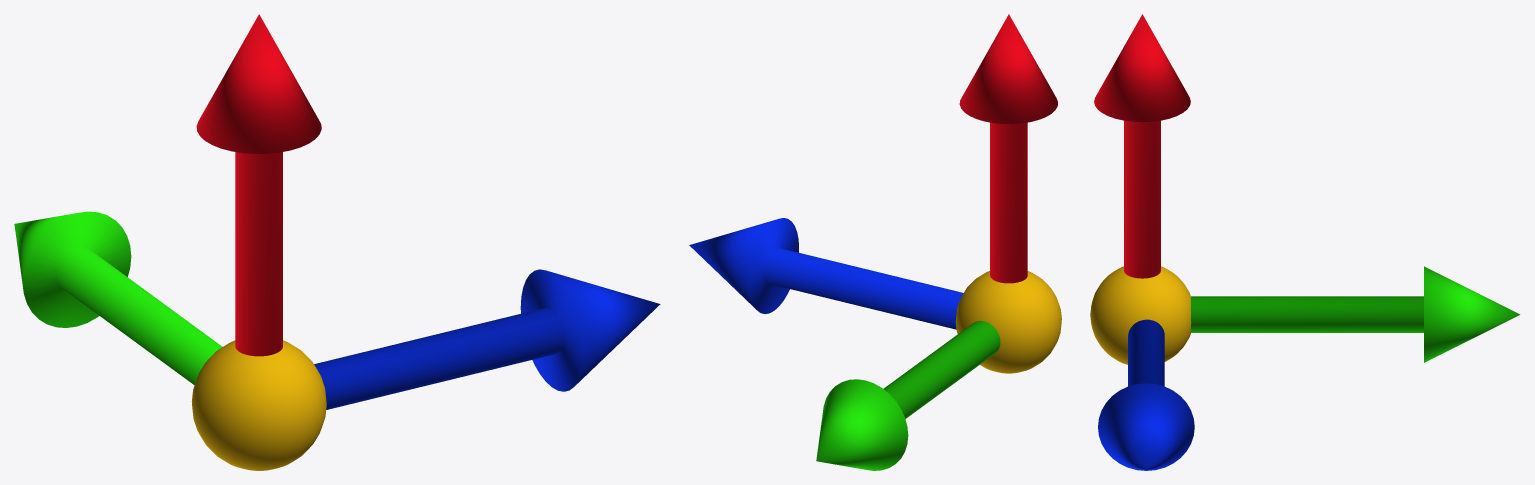
The model's file is axis.glb.
3 views of the same model, side by side, from view 1: azimuth 30°, elevation 25°; view 2: azimuth 150°, elevation 25°; view 3: azimuth 270°, elevation 25° (orthographic). The views are drawn at different scales.
Parts seen in each view (by area): view 1: Sphere; view 2: Sphere; view 3: Sphere.
Boxes of the visible parts, x1,y1,x2,y2 form: Sphere: (14, 14, 660, 470); Sphere: (689, 14, 1061, 470); Sphere: (1090, 14, 1520, 470).
Bounding box in the file's own units: 1.87 × 1.74 × 1.95.
